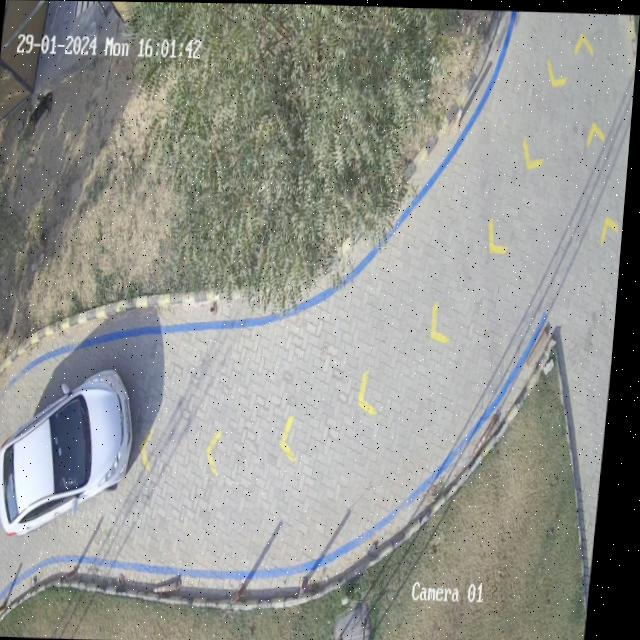car: (3, 370, 139, 535)
